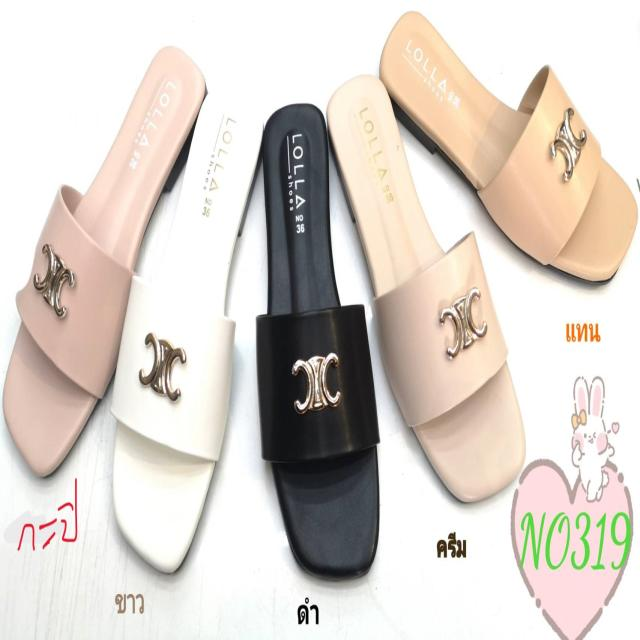black: (257, 102, 381, 567)
cream: (330, 76, 521, 488)
kapi: (4, 45, 204, 458)
tan: (382, 11, 630, 279)
white: (119, 88, 259, 574)
